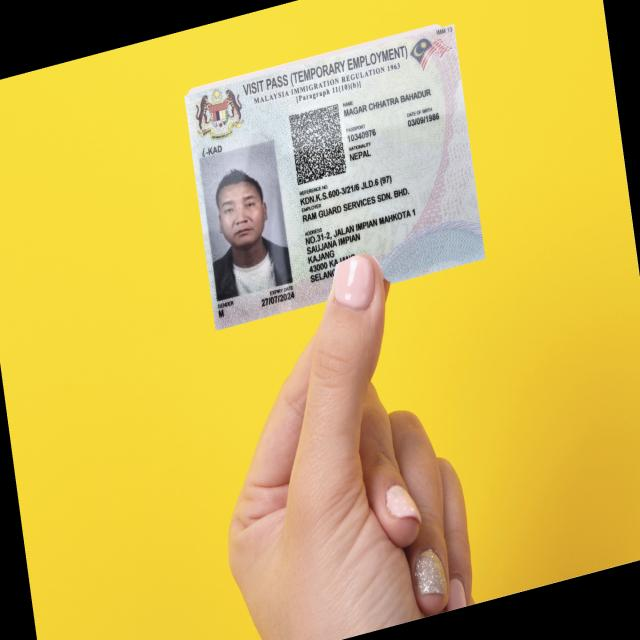ikad-temp: (183, 22, 485, 330)
